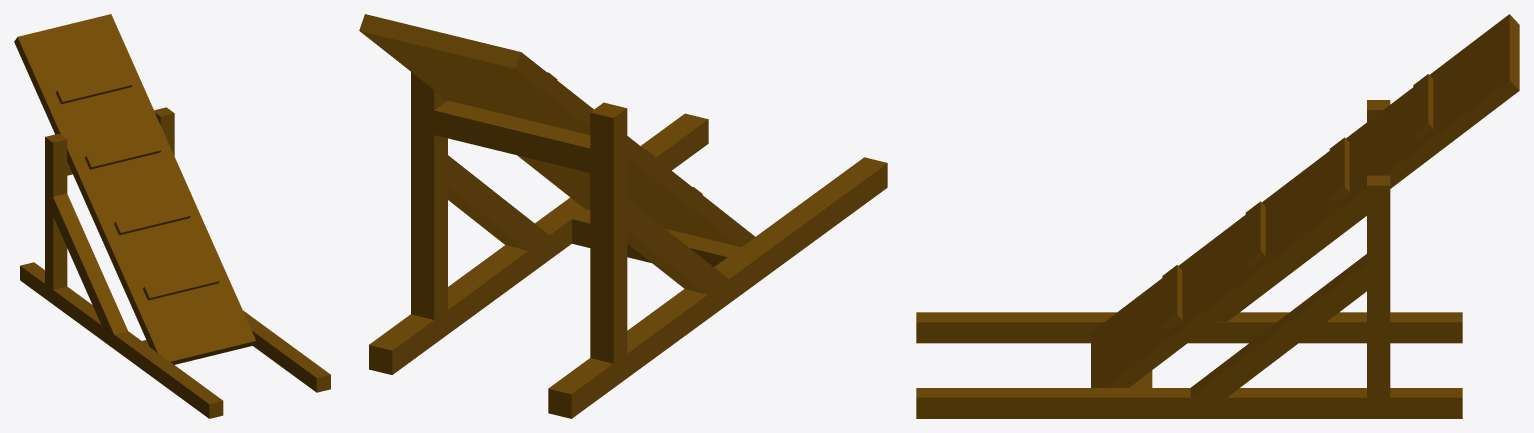
File: Ladder.fbx
3 views of the same model, side by side, from view 1: azimuth 30°, elevation 25°; view 2: azimuth 150°, elevation 25°; view 3: azimuth 270°, elevation 25° (orthographic). The views are drawn at different scales.
Parts seen in each view (by area): view 1: group5, group4; view 2: group4, group5; view 3: group4, group5.
Boxes of the visible parts, box(x1,y1,x2,y2) form: group5: box(14, 14, 255, 364); group4: box(20, 107, 330, 418); group4: box(369, 72, 887, 418); group5: box(359, 14, 755, 247); group4: box(916, 100, 1462, 418); group5: box(1091, 14, 1519, 387).
Size of the model in its own units: 5.19 by 9.31 by 15.46.
